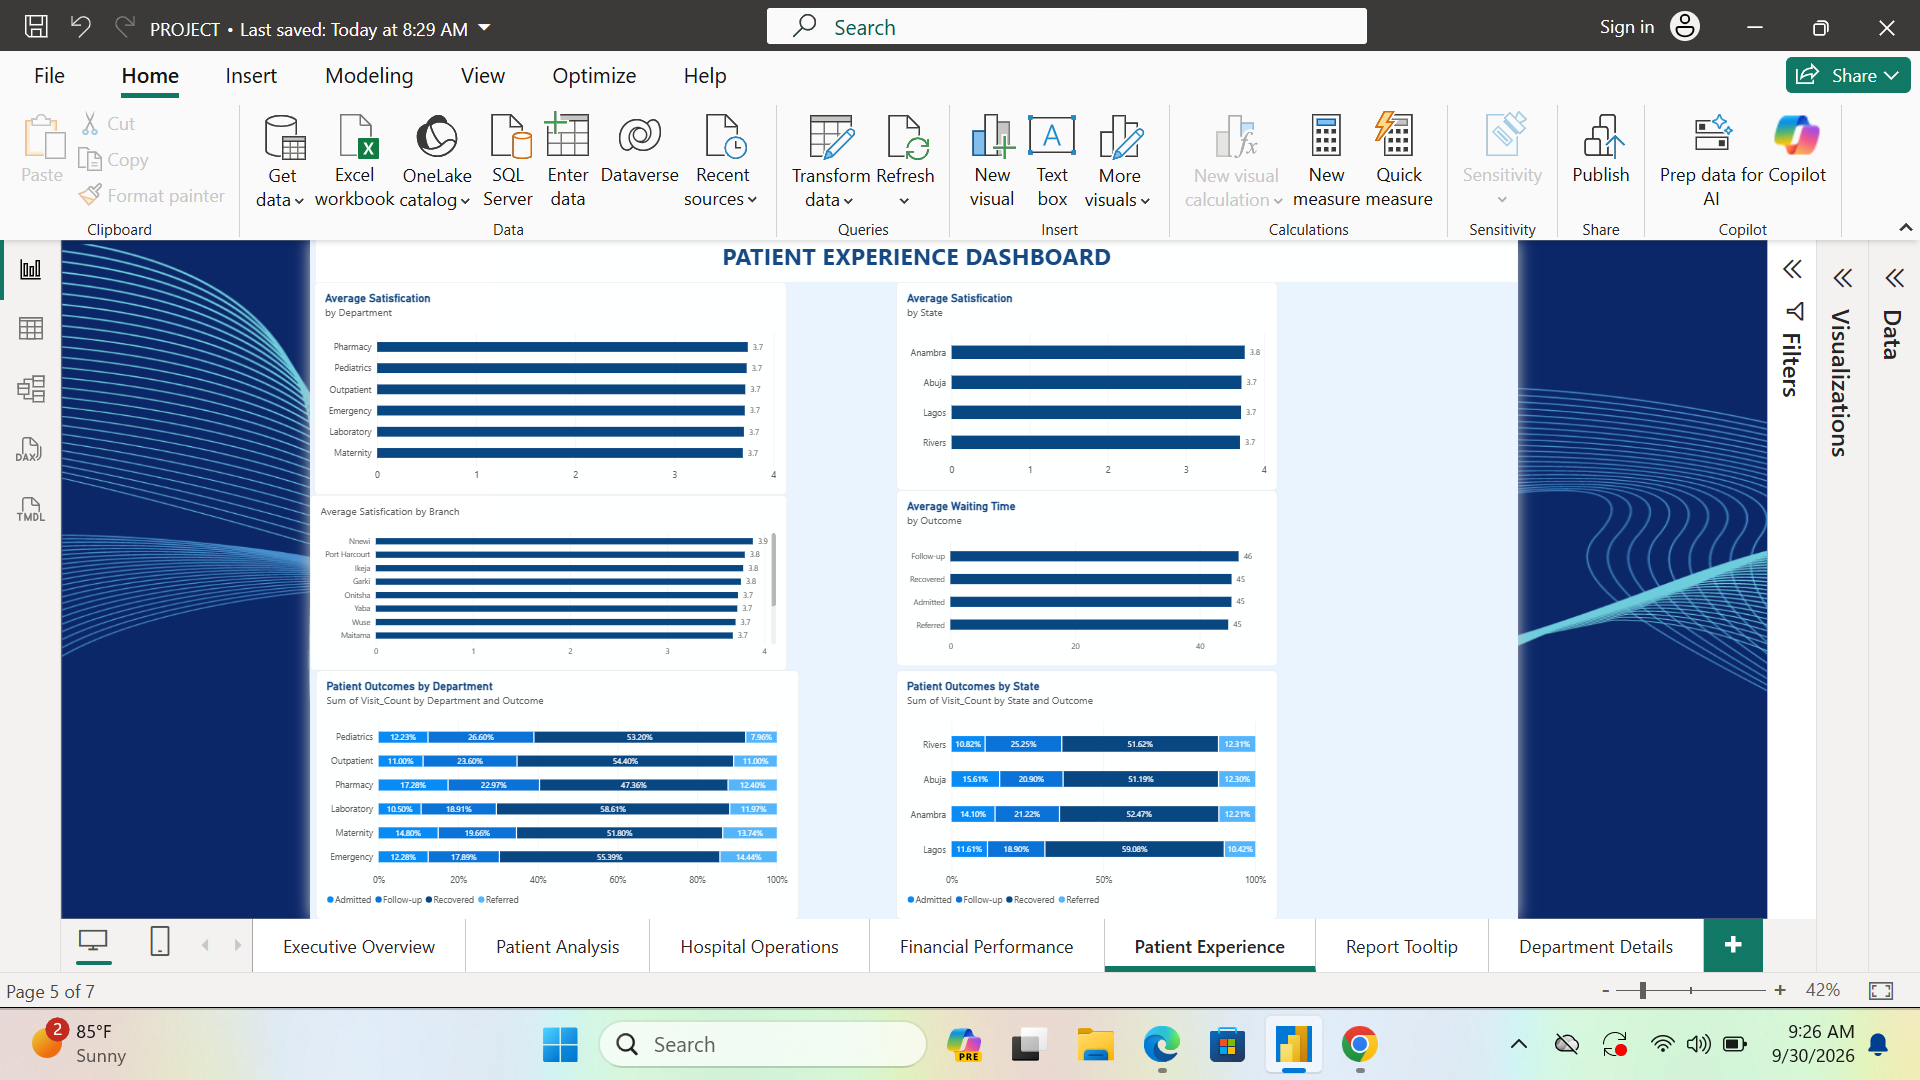

The dashboard page shown, as its layout file describes it:
{"tool":"powerbi","page":{"name":"Patient Experience ","canvas":[1920,1080],"ordinal":4},"visuals":[{"type":"textbox","box":[10,0,280,280],"z":0},{"type":"textbox","box":[10,290,280,280],"z":1000},{"type":"textbox","box":[9.5,0,1911.1,66.8],"z":2000},{"type":"clusteredBarChart","fields":{"Category":["Patient_Visits.Department"],"Y":["Patient_Visits.Average Satisfication"]},"box":[7.2,66.8,751.6,338.8],"z":3000},{"type":"clusteredBarChart","fields":{"Category":["Patient_Visits.State"],"Y":["Patient_Visits.Average Satisfication"]},"box":[932.9,66.8,606,331.6],"z":4000},{"type":"clusteredBarChart","fields":{"Category":["Patient_Visits.Branch"],"Y":["Patient_Visits.Average Satisfication"]},"box":[0,405.6,758.7,279.2],"z":5000},{"type":"hundredPercentStackedBarChart","title":"Patient Outcomes by Department","fields":{"Category":["Patient_Visits.Department"],"Series":["Patient_Visits.Outcome"],"Y":["Sum(Patient_Visits.Visit_Count)"]},"box":[9.5,684.8,768.3,396.1],"z":6000},{"type":"clusteredBarChart","fields":{"Category":["Patient_Visits.Outcome"],"Y":["Patient_Visits.Average Waiting Time"]},"box":[932.9,398.4,606,279.2],"z":7000},{"type":"hundredPercentStackedBarChart","title":"Patient Outcomes by State","fields":{"Category":["Patient_Visits.State"],"Series":["Patient_Visits.Outcome"],"Y":["Sum(Patient_Visits.Visit_Count)"]},"box":[932.9,684.8,606,396.1],"z":8000}]}

Visuals, with their boxes on the page's 1920x1080 design canvas (x1, y1, x2, y2). These are canvas units, not pixel positions in the 1920x1080 screenshot, which may show the page scaled, cropped or inside an application window:
textbox: pyautogui.locateOnScreen(10, 0, 290, 280)
textbox: pyautogui.locateOnScreen(10, 290, 290, 570)
textbox: pyautogui.locateOnScreen(10, 0, 1921, 67)
clusteredBarChart - Patient_Visits.Department x Patient_Visits.Average Satisfication: pyautogui.locateOnScreen(7, 67, 759, 406)
clusteredBarChart - Patient_Visits.State x Patient_Visits.Average Satisfication: pyautogui.locateOnScreen(933, 67, 1539, 398)
clusteredBarChart - Patient_Visits.Branch x Patient_Visits.Average Satisfication: pyautogui.locateOnScreen(0, 406, 759, 685)
"Patient Outcomes by Department" hundredPercentStackedBarChart: pyautogui.locateOnScreen(10, 685, 778, 1081)
clusteredBarChart - Patient_Visits.Outcome x Patient_Visits.Average Waiting Time: pyautogui.locateOnScreen(933, 398, 1539, 678)
"Patient Outcomes by State" hundredPercentStackedBarChart: pyautogui.locateOnScreen(933, 685, 1539, 1081)
